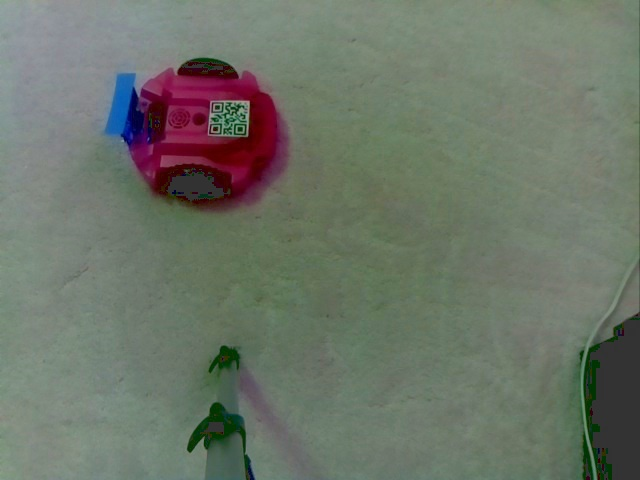board: (100, 71, 158, 146)
chassis: (98, 50, 290, 214)
